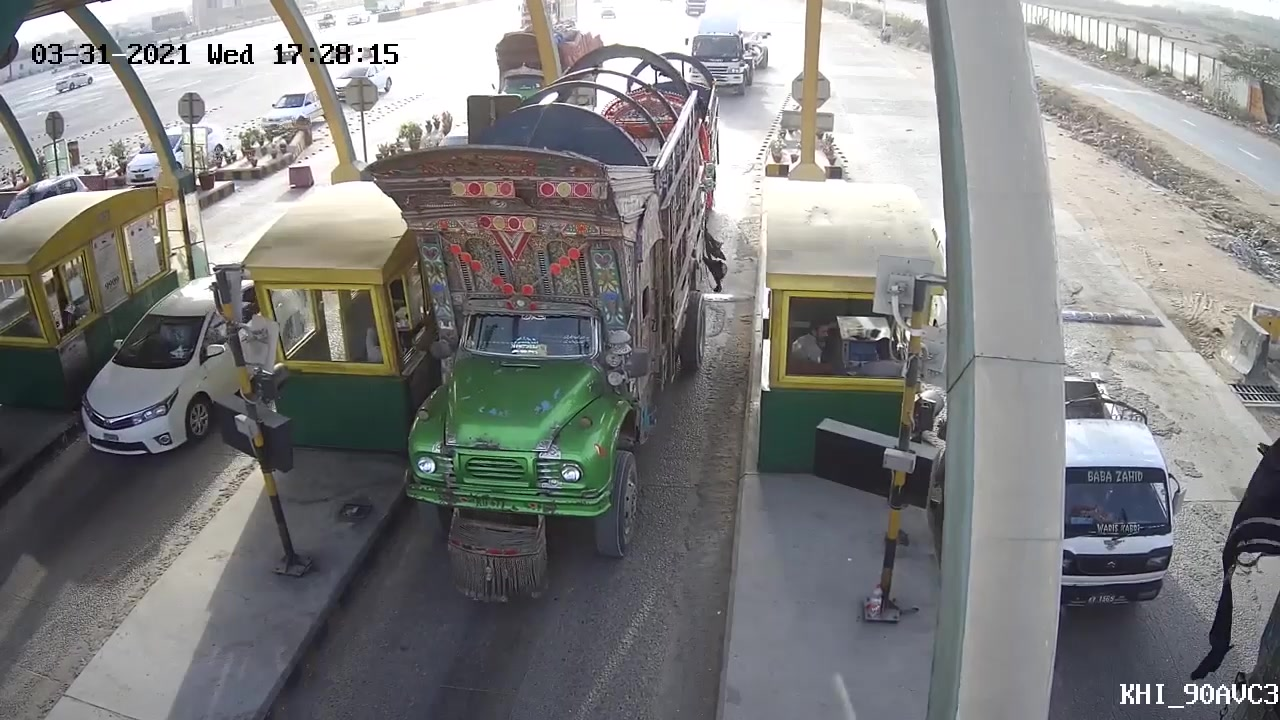F5: (365, 55, 729, 554)
